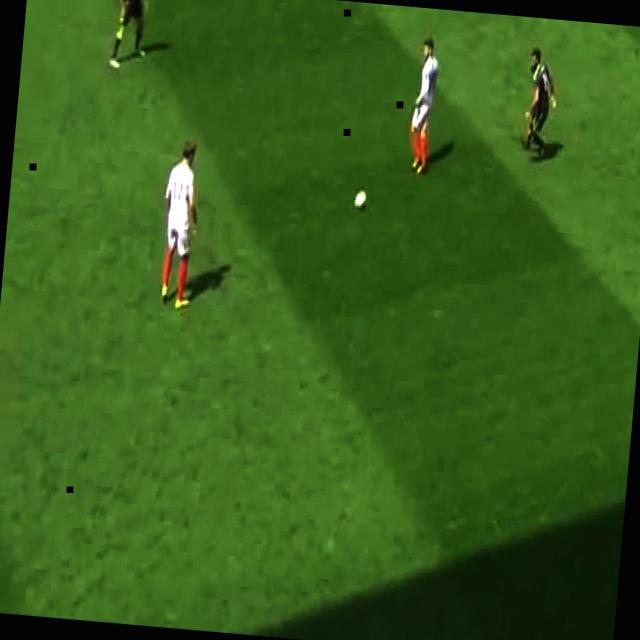ball: (354, 188, 367, 210)
player-white: (156, 140, 204, 310), (406, 38, 440, 174), (520, 49, 560, 160), (106, 0, 152, 70)
